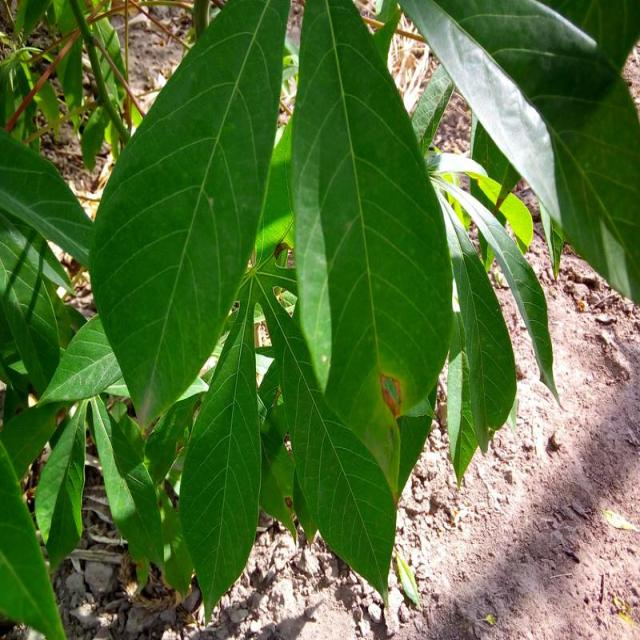cassava leaf: (86, 0, 292, 433), (288, 0, 454, 505), (396, 0, 638, 305), (176, 287, 262, 624)
